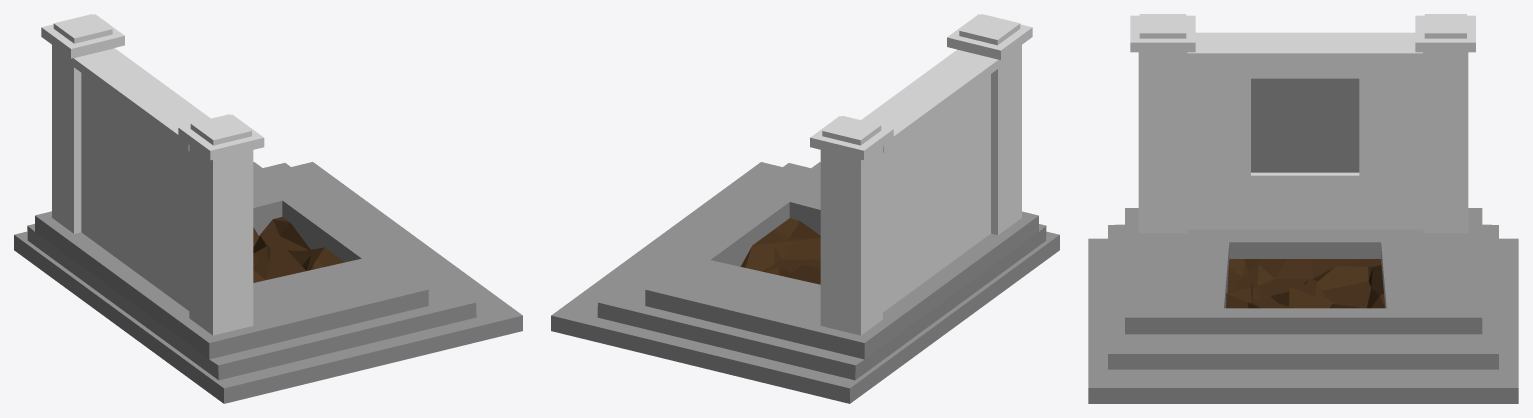
File: Wake.fbx
The picture shows the model from 3 angles, left to right: view 1: azimuth 30°, elevation 25°; view 2: azimuth 150°, elevation 25°; view 3: azimuth 270°, elevation 25°; orthographic projection. The views are drawn at different scales.
Visible parts, largest first — view 1: Cube; view 2: Cube; view 3: Cube.
Boxes of the visible parts, left/top/right/bottom form: Cube: left=14, top=14, right=522, bottom=403; Cube: left=551, top=14, right=1059, bottom=403; Cube: left=1088, top=14, right=1518, bottom=403.
Size of the model in its own units: 1426 by 1103 by 1736.
